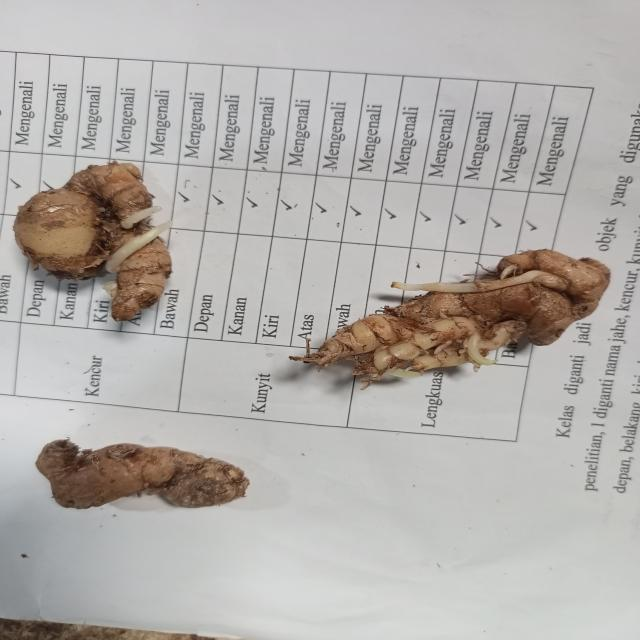ginger: (322, 252, 600, 370), (24, 165, 170, 318), (46, 435, 242, 517)
